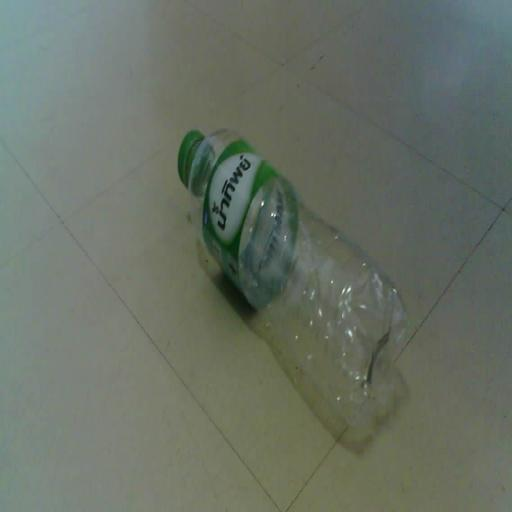bottle: (164, 103, 419, 455)
